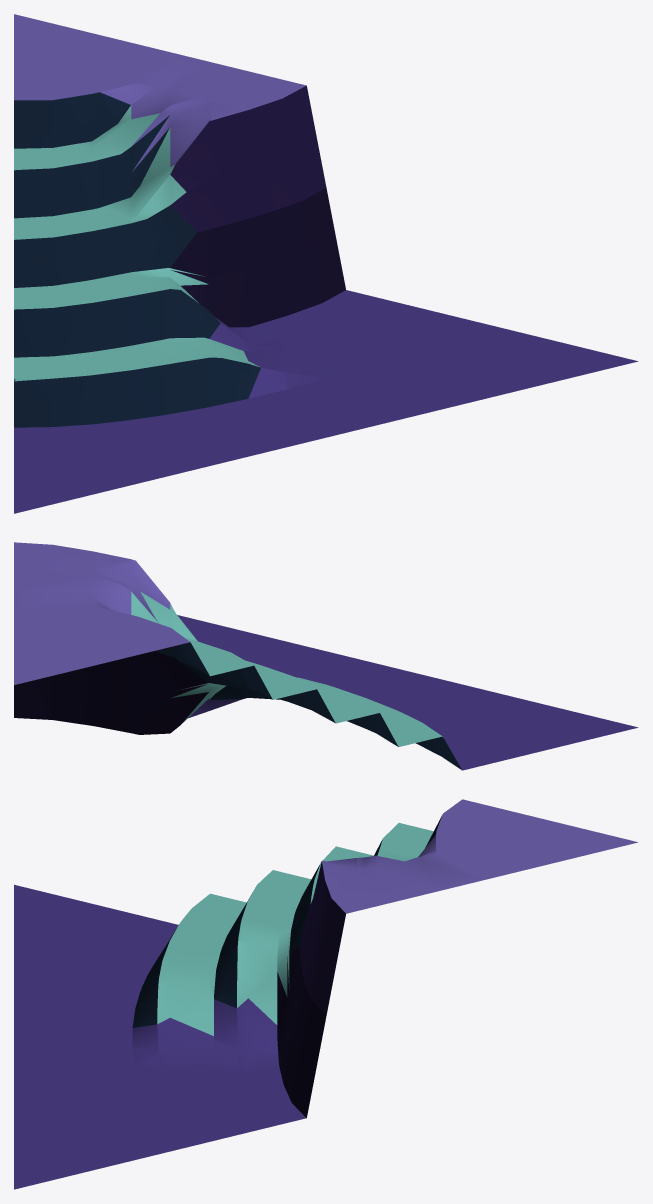
The model's file is MODULE_ALIEN_MIX_CORNER_B_2.fbx.
3 views of the same model, one above another, from view 1: azimuth 30°, elevation 25°; view 2: azimuth 150°, elevation 25°; view 3: azimuth 270°, elevation 25° (orthographic).
Parts seen in each view (by area): view 1: MODULE_ALIEN_MIX_CORNER_B_2__export; view 2: MODULE_ALIEN_MIX_CORNER_B_2__export; view 3: MODULE_ALIEN_MIX_CORNER_B_2__export.
Part boxes in pixels (box(x1,y1,x2,y2)): MODULE_ALIEN_MIX_CORNER_B_2__export: box(14, 14, 638, 513); MODULE_ALIEN_MIX_CORNER_B_2__export: box(14, 542, 638, 770); MODULE_ALIEN_MIX_CORNER_B_2__export: box(14, 799, 637, 1189).
Bounding box in the file's own units: 100 × 29.78 × 86.6.
